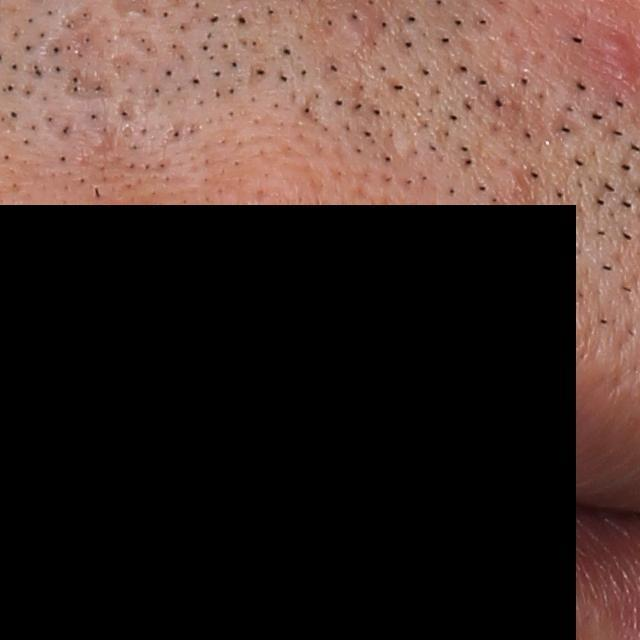atrophic_scar: (109, 36, 205, 124), (39, 15, 121, 59), (57, 65, 122, 109), (114, 26, 160, 59)
papule: (600, 29, 639, 81)
